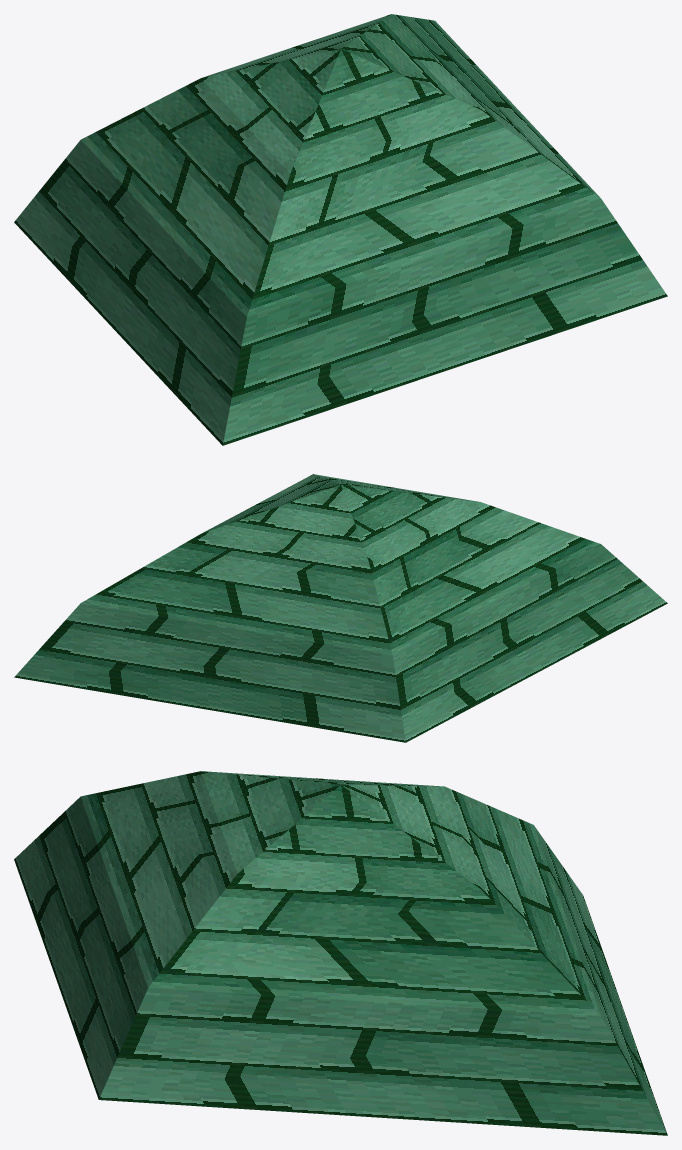
The model's file is telhado_06_alquimista.glb.
The picture shows the model from 3 angles, top to bottom: view 1: azimuth 30°, elevation 25°; view 2: azimuth 150°, elevation 25°; view 3: azimuth 270°, elevation 25°; orthographic projection. The views are drawn at different scales.
Parts seen in each view (by area): view 1: telhado_06_alquimista; view 2: telhado_06_alquimista; view 3: telhado_06_alquimista.
Part boxes in pixels (box(x1,y1,x2,y2)): telhado_06_alquimista: box(14, 14, 667, 445); telhado_06_alquimista: box(14, 474, 667, 742); telhado_06_alquimista: box(14, 771, 667, 1135).
Bounding box in the file's own units: 4.68 × 1.68 × 4.68.
1 material, 1 textured.
